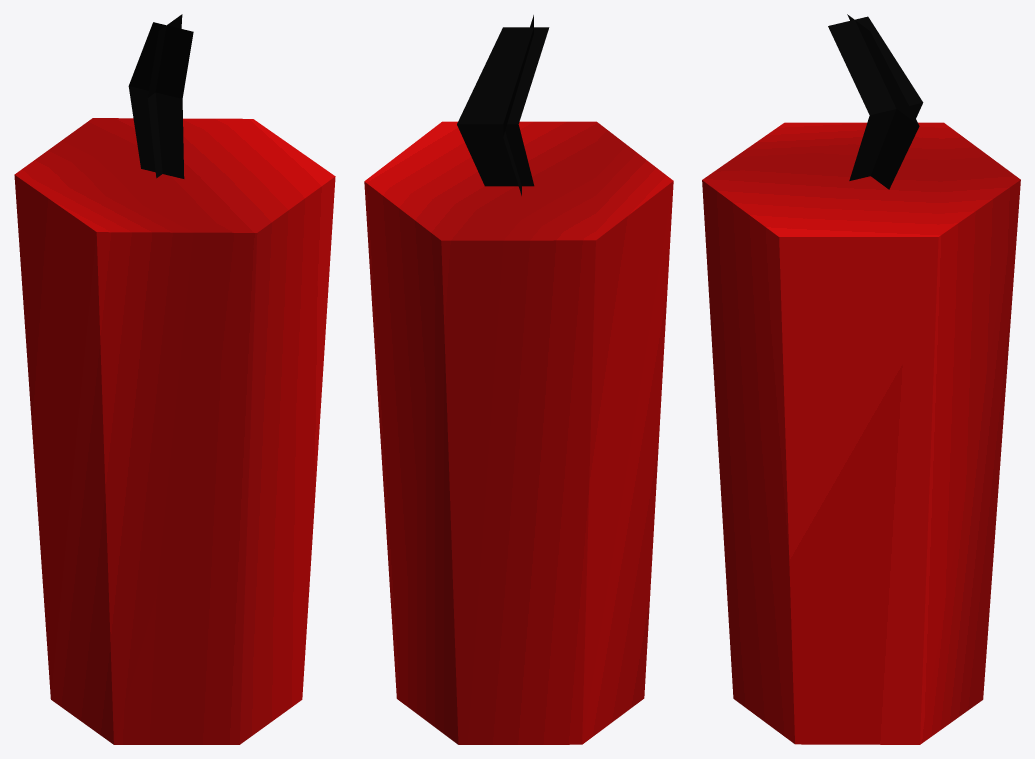
Rendered from Dynamite.obj.
3 views of the same model, side by side, from view 1: azimuth 30°, elevation 25°; view 2: azimuth 150°, elevation 25°; view 3: azimuth 270°, elevation 25° (orthographic).
Parts seen in each view (by area): view 1: ShapeIndexedFaceS.014; view 2: ShapeIndexedFaceS.014; view 3: ShapeIndexedFaceS.014.
Part boxes in pixels (box(x1,y1,x2,y2)): ShapeIndexedFaceS.014: box(14, 14, 335, 744); ShapeIndexedFaceS.014: box(364, 15, 673, 744); ShapeIndexedFaceS.014: box(702, 14, 1020, 744).
Bounding box in the file's own units: 2.03 × 5.52 × 2.37.
